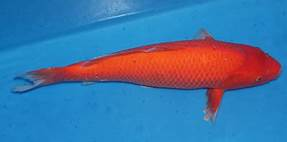red: (11, 27, 283, 123)
